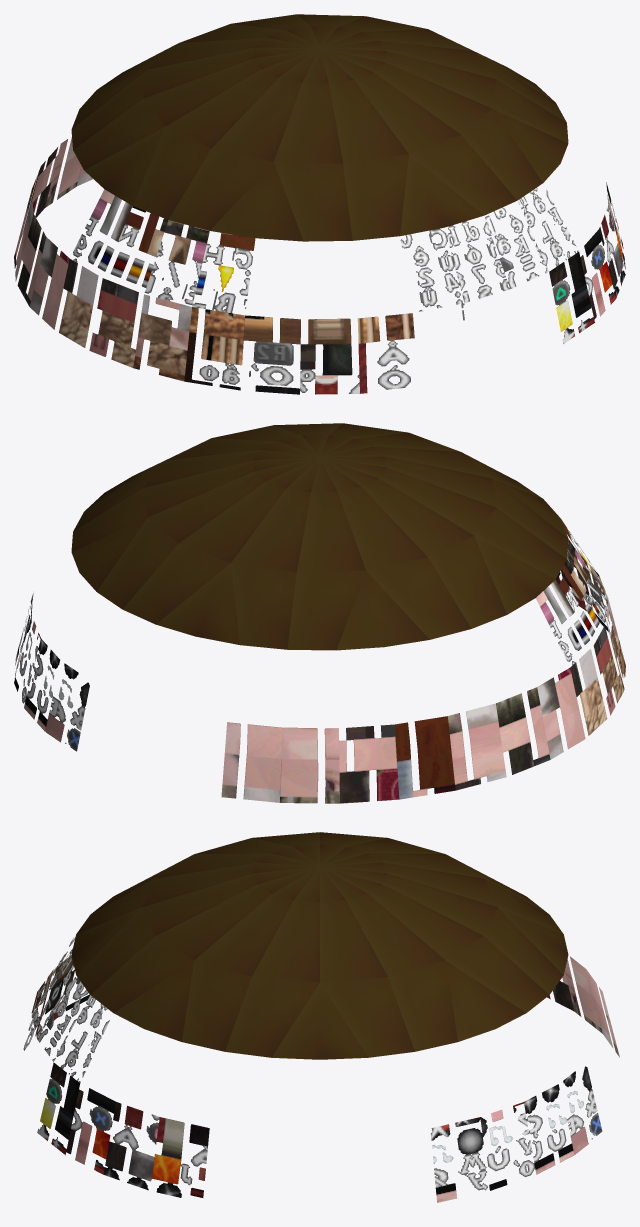
3 renders of one model, top to bottom at view 1: azimuth 30°, elevation 25°; view 2: azimuth 150°, elevation 25°; view 3: azimuth 270°, elevation 25°, orthographic.
Parts seen in each view (by area): view 1: T1L2M004_12; view 2: T1L2M004_12; view 3: T1L2M004_12.
Part boxes in pixels (left/top/right/bottom): T1L2M004_12: left=14, top=14, right=625, bottom=394; T1L2M004_12: left=14, top=423, right=625, bottom=803; T1L2M004_12: left=23, top=832, right=619, bottom=1202.
Bounding box in the file's own units: 4.09 × 1.6 × 4.09.
